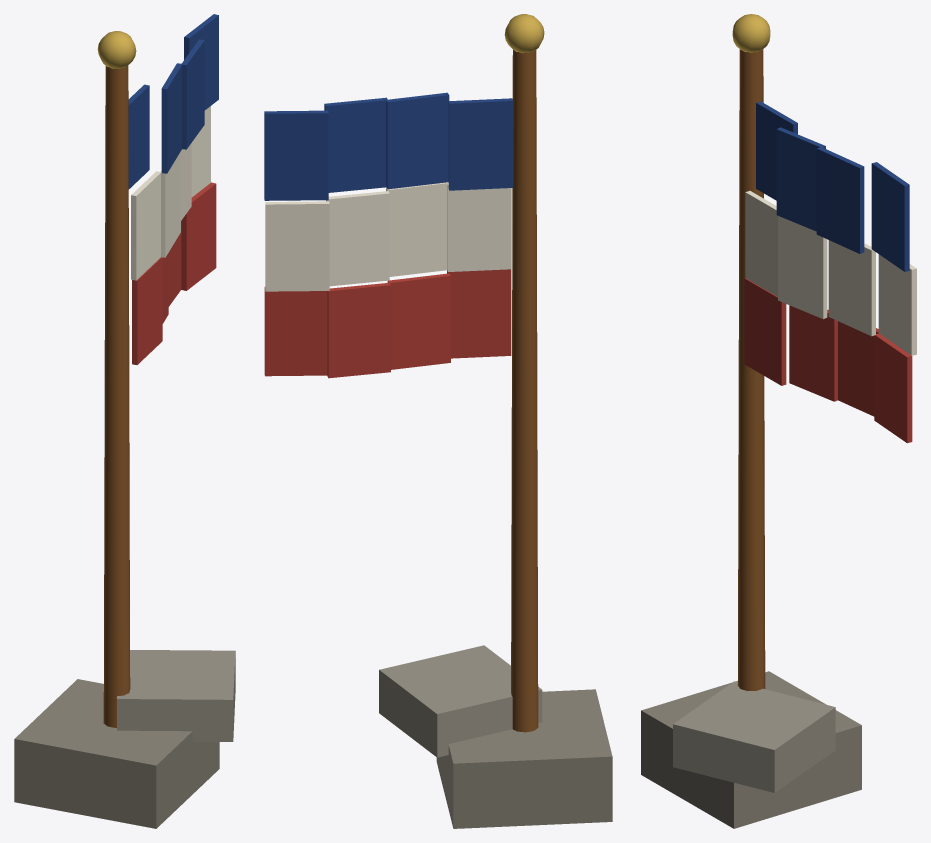
Rendered from revolution.glb.
The picture shows the model from 3 angles, left to right: view 1: azimuth 30°, elevation 25°; view 2: azimuth 150°, elevation 25°; view 3: azimuth 270°, elevation 25°; orthographic projection. The views are drawn at different scales.
Bounding box in the file's own units: 0.8063 × 2.14 × 0.6976.
